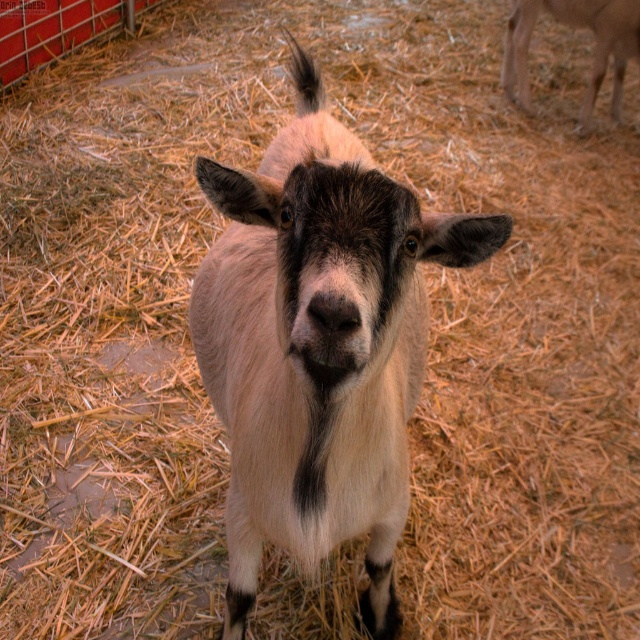Goat: (186, 25, 510, 639)
